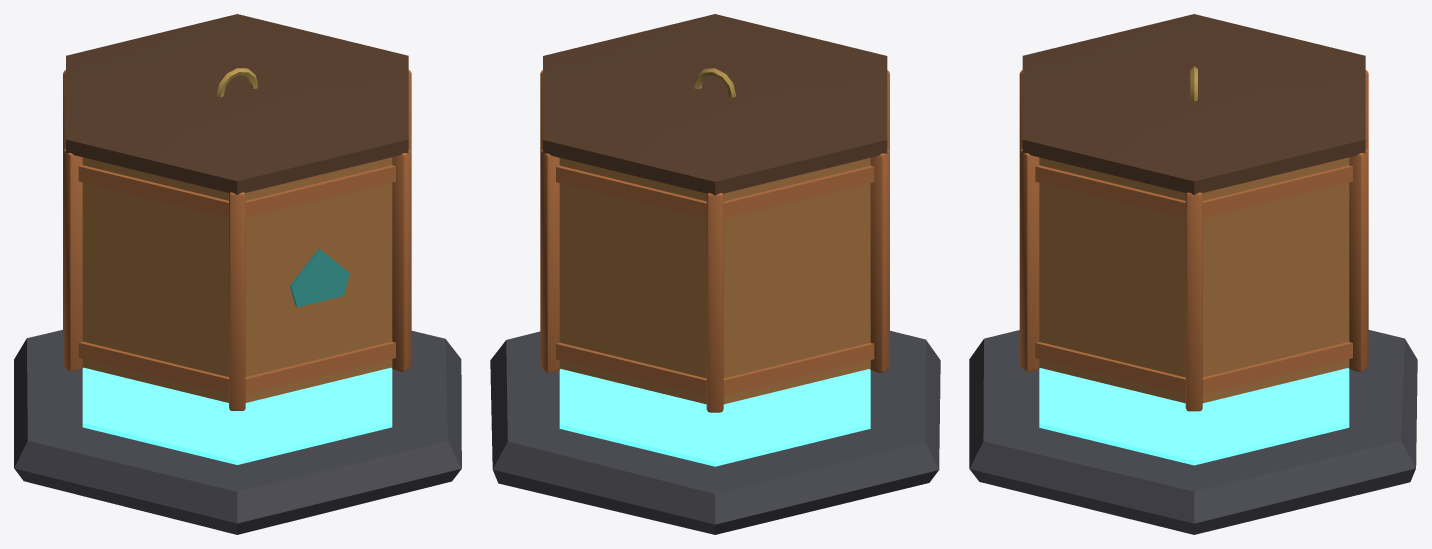
The model's file is deco_floating_crate_single.fbx.
The picture shows the model from 3 angles, left to right: view 1: azimuth 30°, elevation 25°; view 2: azimuth 150°, elevation 25°; view 3: azimuth 270°, elevation 25°; orthographic projection.
Visible parts, largest first — view 1: FloatingCrate_Single_Body, FloatingCrate_Single_Lid, FloatingCrate_Single_Pad, FloatingCrate_Single_PadGlow; view 2: FloatingCrate_Single_Body, FloatingCrate_Single_Lid, FloatingCrate_Single_Pad, FloatingCrate_Single_PadGlow; view 3: FloatingCrate_Single_Body, FloatingCrate_Single_Lid, FloatingCrate_Single_Pad, FloatingCrate_Single_PadGlow.
Part boxes in pixels (x1,y1,x2,y2): FloatingCrate_Single_Body: [63, 70, 411, 410]; FloatingCrate_Single_Lid: [66, 14, 408, 194]; FloatingCrate_Single_Pad: [14, 330, 461, 534]; FloatingCrate_Single_PadGlow: [82, 367, 392, 464]; FloatingCrate_Single_Body: [540, 70, 889, 412]; FloatingCrate_Single_Lid: [543, 14, 887, 195]; FloatingCrate_Single_Pad: [490, 330, 940, 534]; FloatingCrate_Single_PadGlow: [559, 369, 870, 466]; FloatingCrate_Single_Body: [1019, 70, 1368, 411]; FloatingCrate_Single_Lid: [1022, 14, 1365, 194]; FloatingCrate_Single_Pad: [969, 330, 1417, 534]; FloatingCrate_Single_PadGlow: [1039, 368, 1349, 465].
Size of the model in its own units: 154 by 119 by 134.
